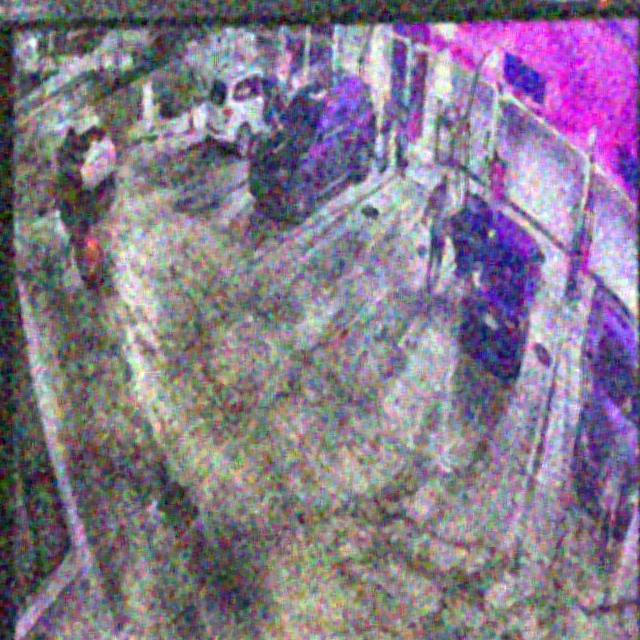Car: (250, 75, 379, 223), (450, 185, 546, 375), (204, 62, 303, 152)
